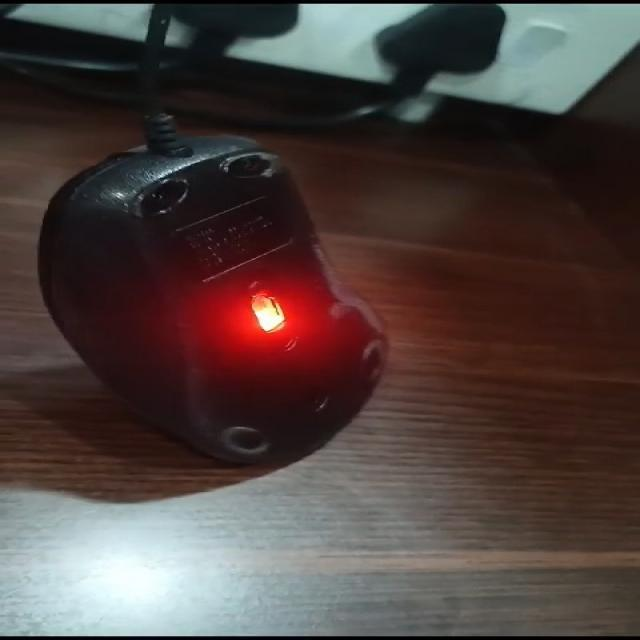mouse: (27, 84, 432, 514)
